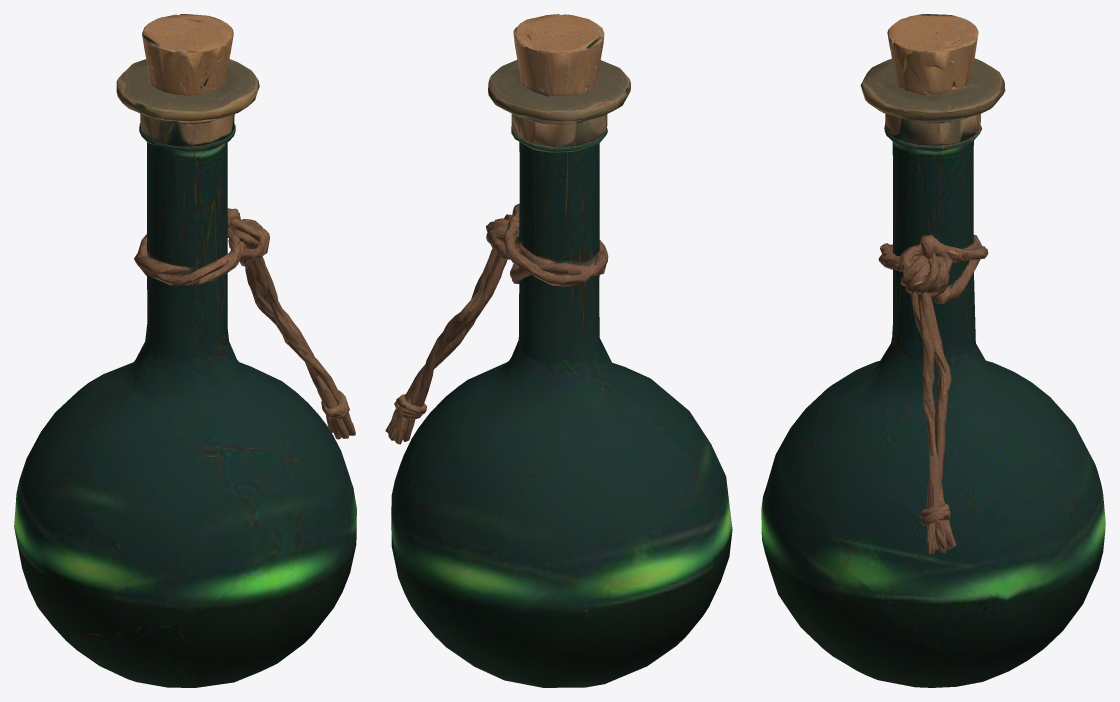
Rendered from weapon-flask.glb.
3 renders of one model, left to right at view 1: azimuth 30°, elevation 25°; view 2: azimuth 150°, elevation 25°; view 3: azimuth 270°, elevation 25°, orthographic.
Size of the model in its own units: 0.1348 by 0.2503 by 0.1263.
1 material, 1 textured.
